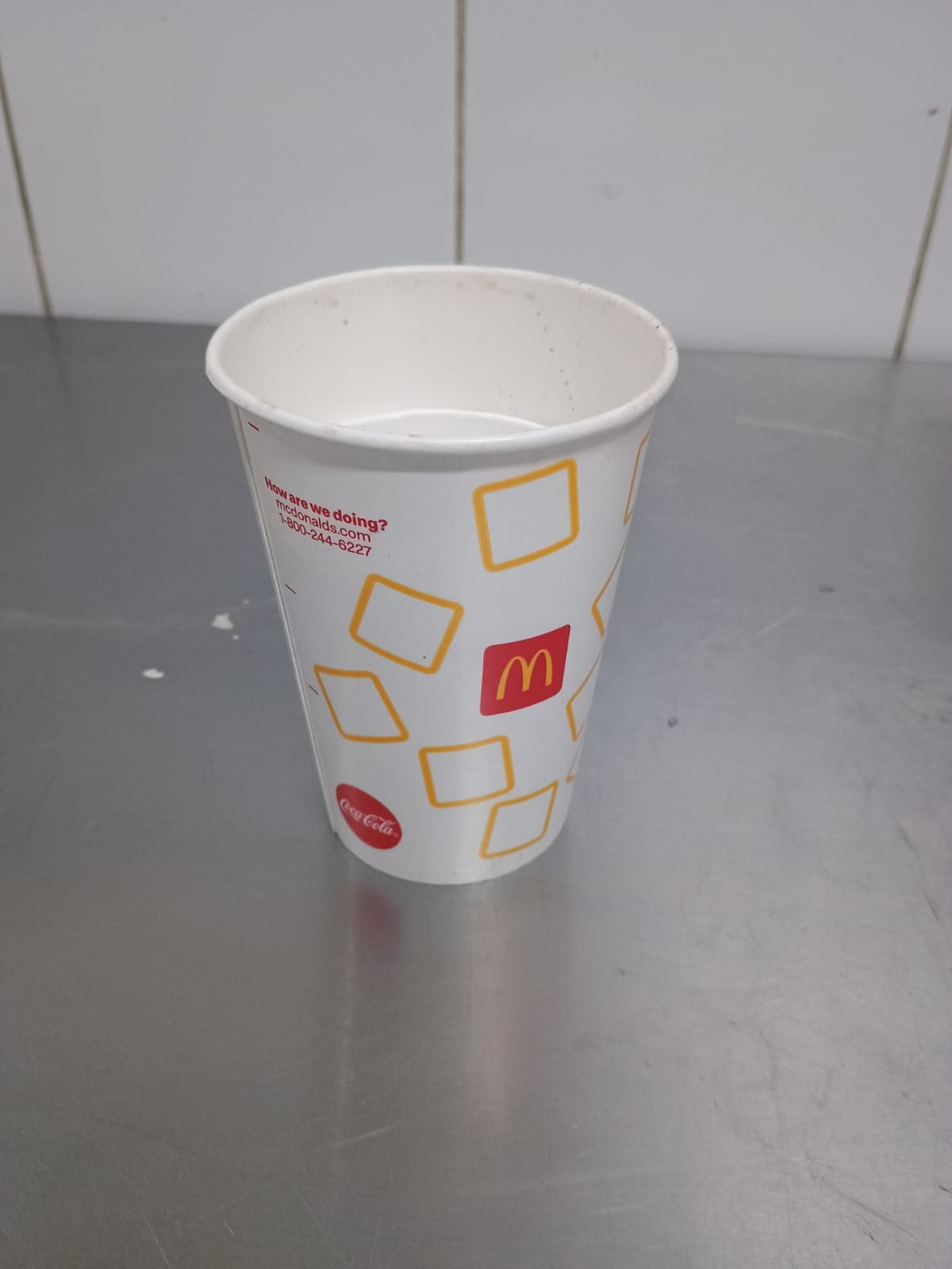Carton: (204, 264, 678, 883)
